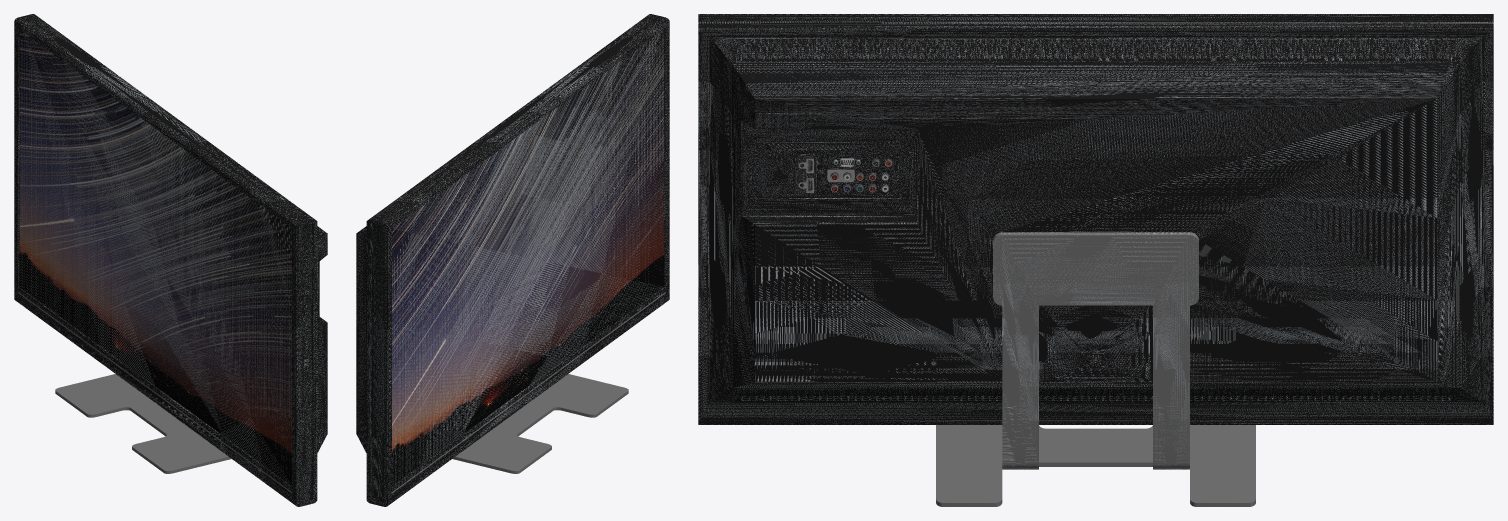
3 renders of one model, left to right at view 1: azimuth 30°, elevation 25°; view 2: azimuth 150°, elevation 25°; view 3: azimuth 270°, elevation 25°, orthographic. The views are drawn at different scales.
Visible parts, largest first — view 1: SketchUp (×7); view 2: SketchUp (×7); view 3: SketchUp (×6).
Boxes of the visible parts, x1,y1,x2,y2 form: SketchUp (×7): (14, 14, 327, 506); SketchUp (×7): (356, 14, 669, 506); SketchUp (×6): (698, 14, 1493, 506).
Size of the model in its own units: 13.39 by 44.5 by 26.25.
